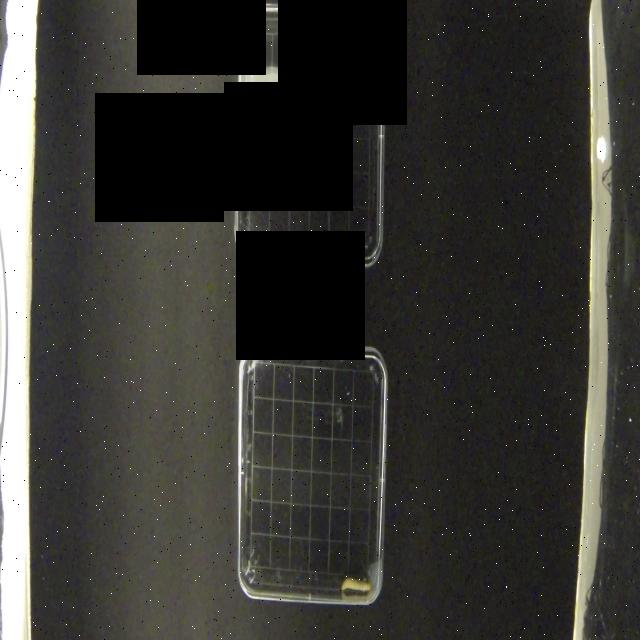larva: (340, 572, 373, 596), (276, 235, 312, 256)
